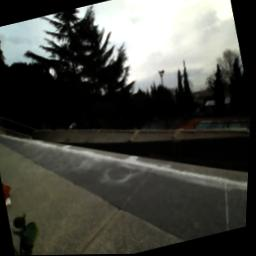herb: (9, 210, 50, 256)
wild: (3, 181, 18, 204)
